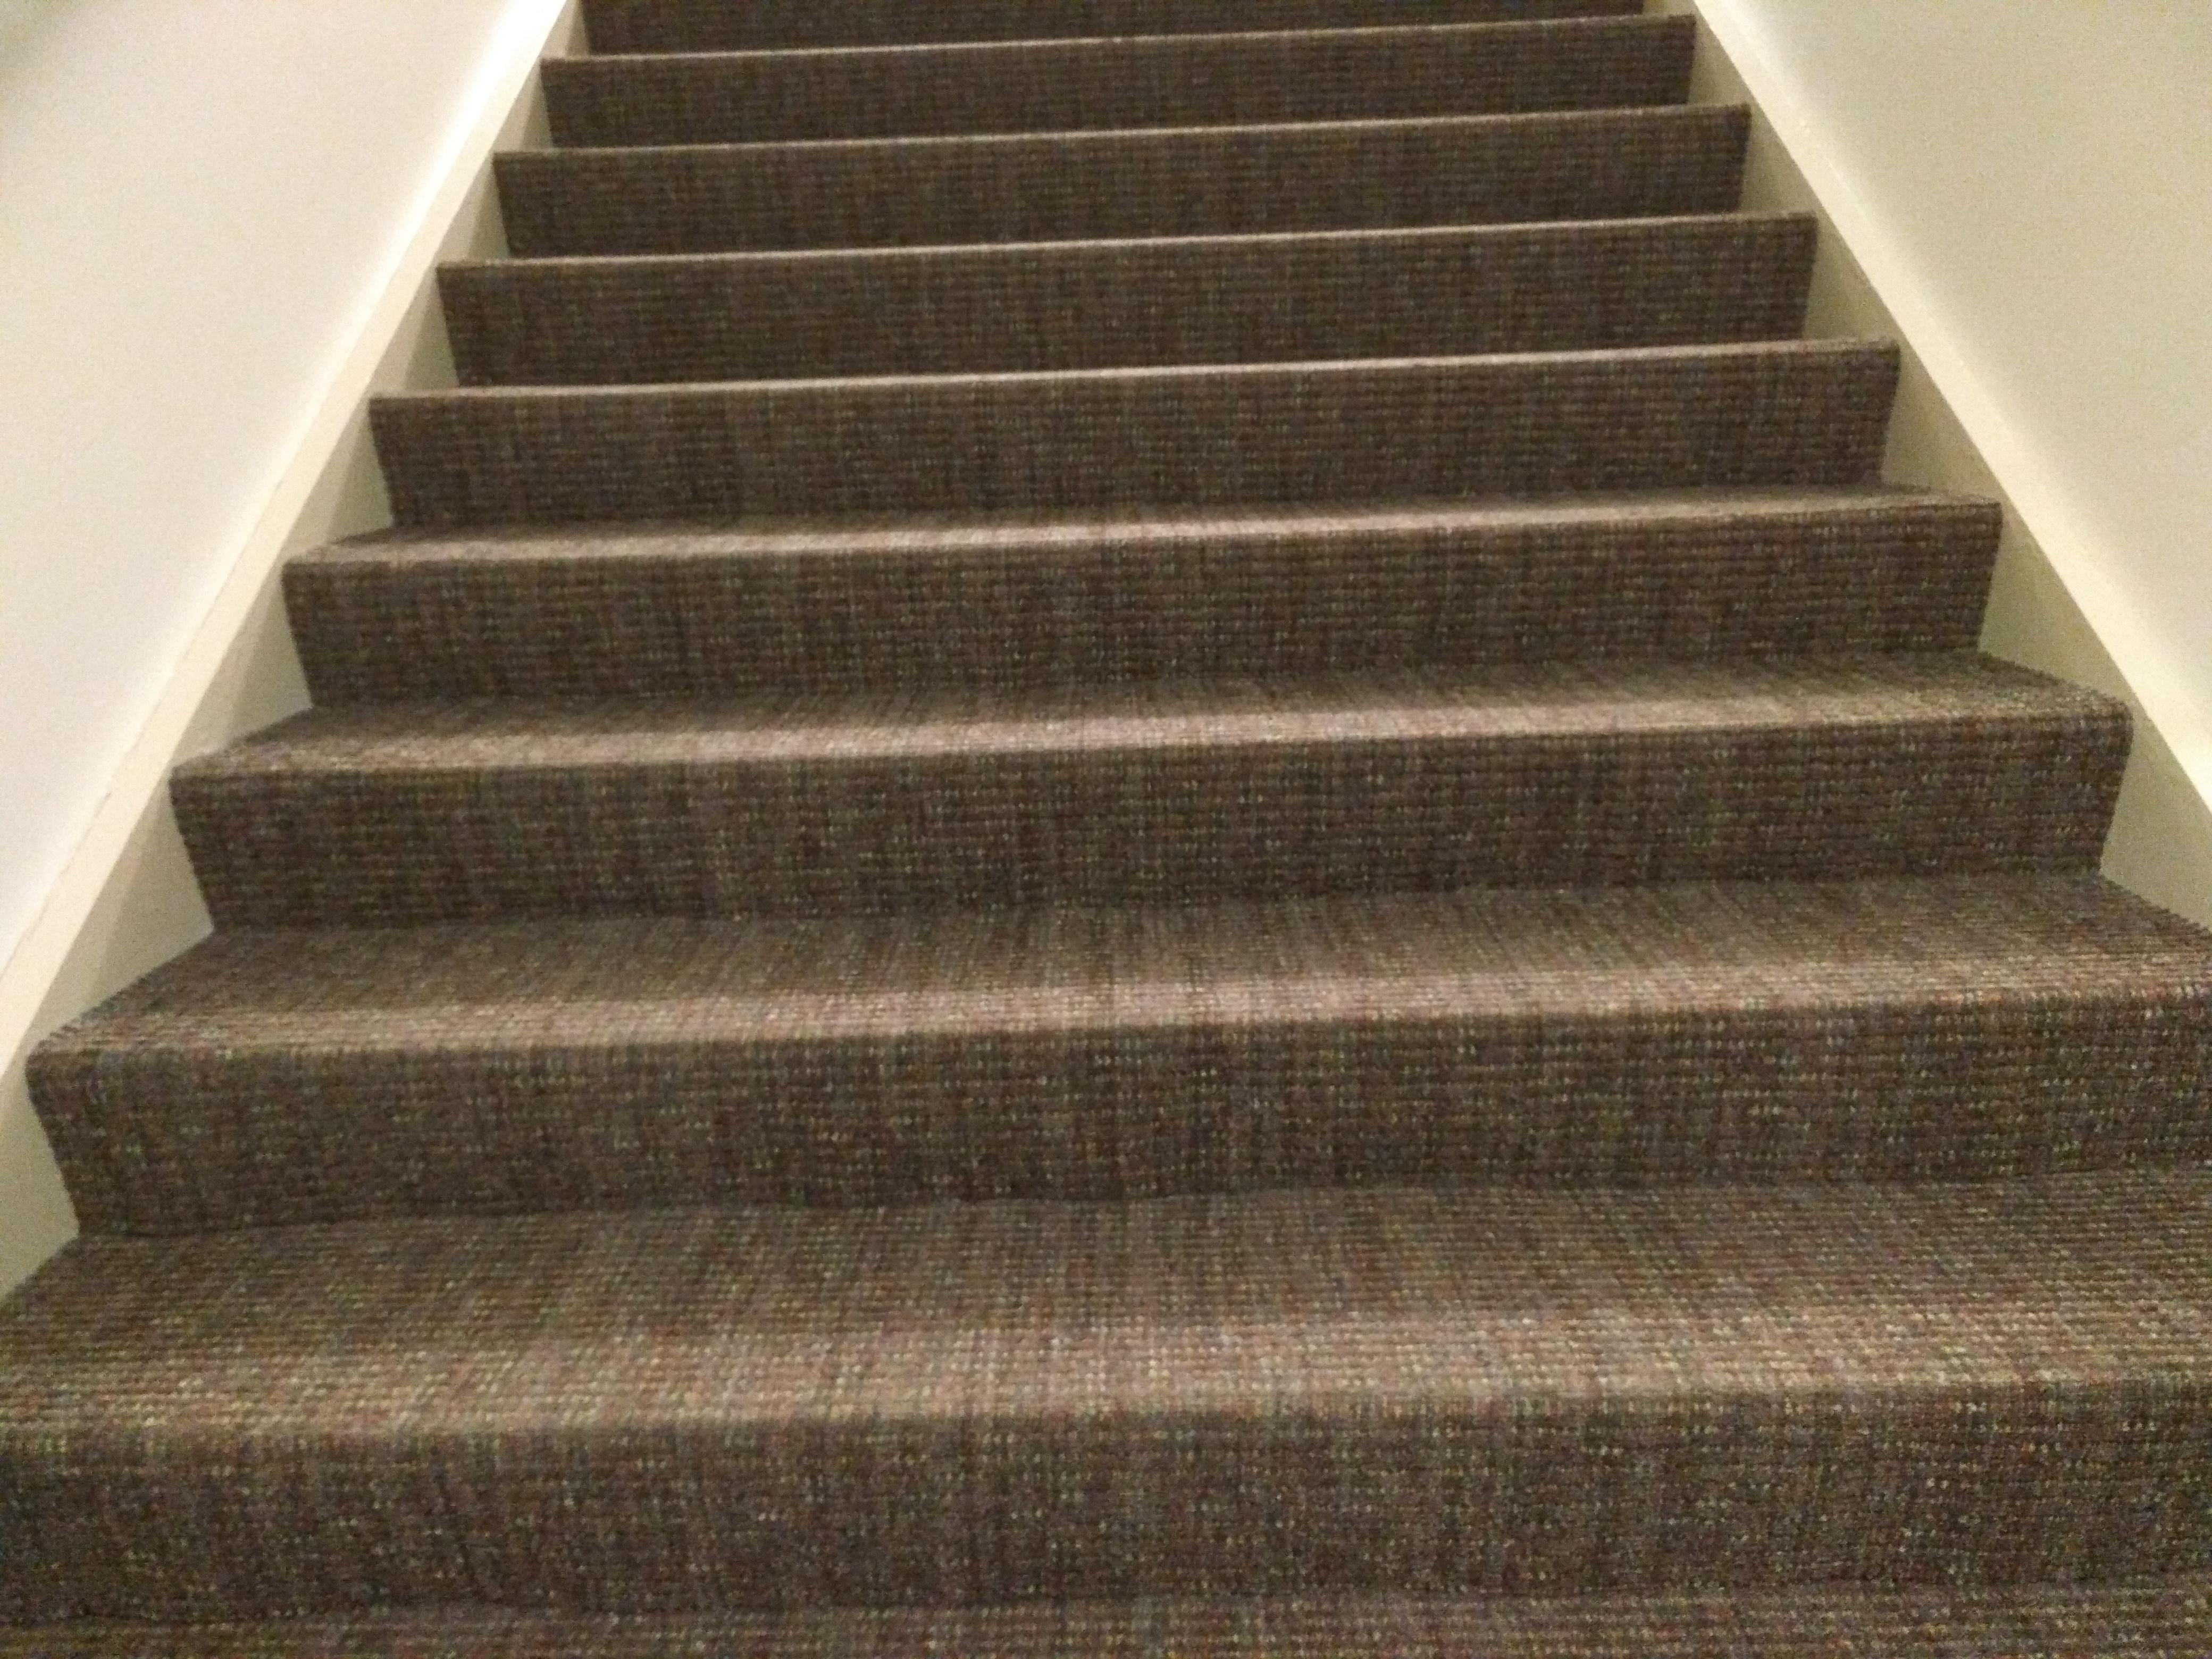stairs_up: (23, 17, 2191, 1561)
